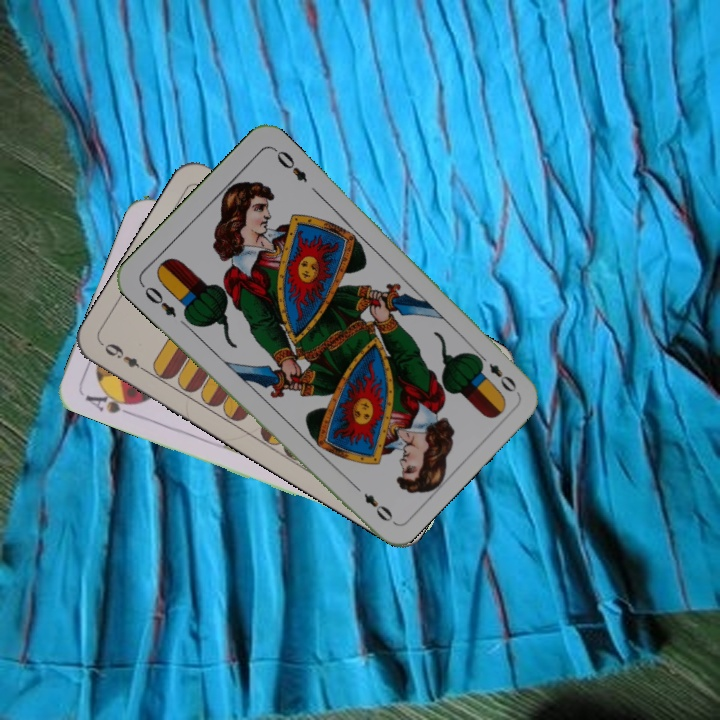E9: (98, 339, 152, 376)
EO: (472, 349, 520, 395), (137, 279, 179, 320)
SA: (81, 385, 141, 419)
